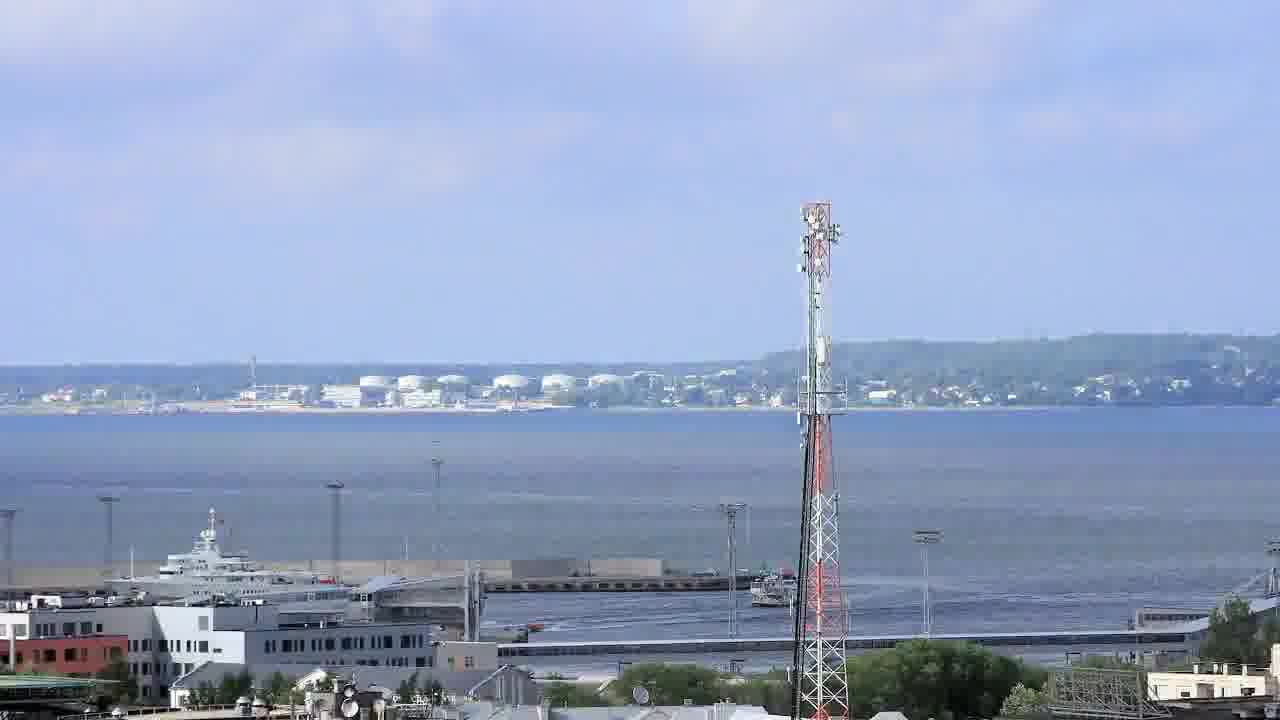type-0: (736, 572, 805, 619)
